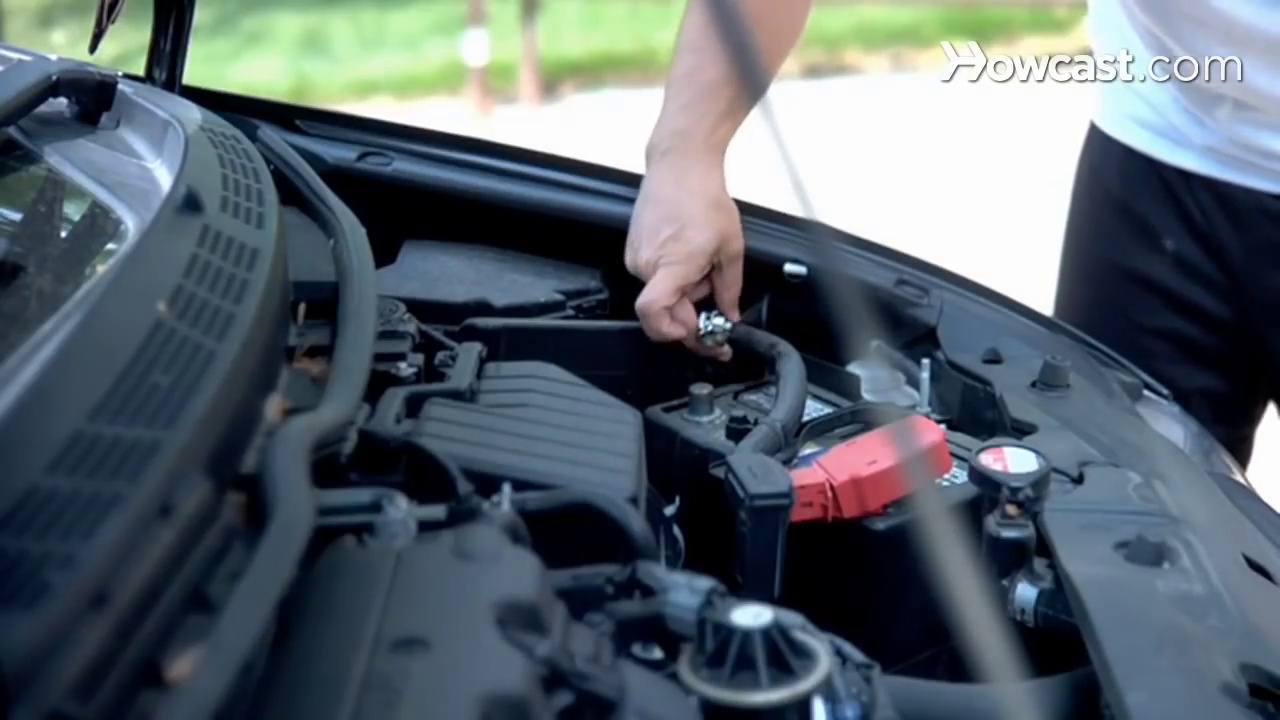battery: (646, 360, 990, 525)
neg_disconnected: (638, 279, 740, 424)
pos_connected: (759, 411, 964, 535)
